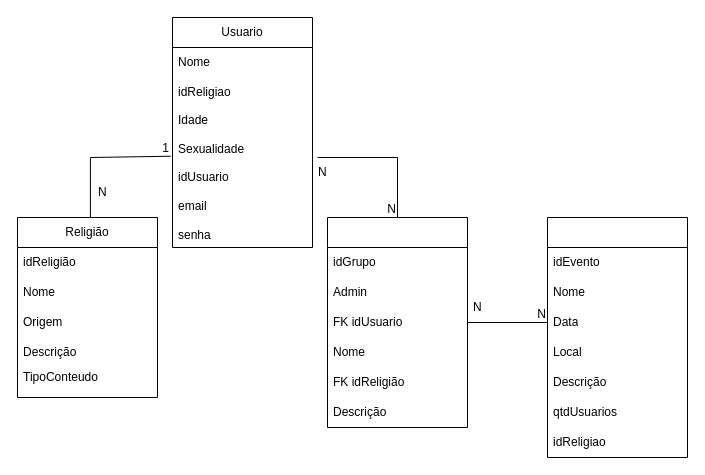
The diagram is 705 pixels wide and 475 high, and some of its shapes have lost their labels. Here are the shapes that lost their labels. From the top down, the box of each, then its label:
(326, 216, 468, 428): Grupos
(546, 216, 688, 458): Eventos
